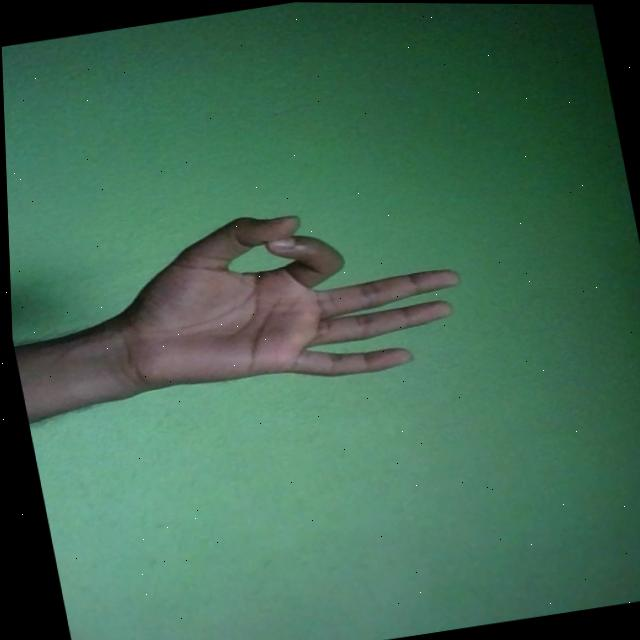Ok: (94, 184, 476, 410)
